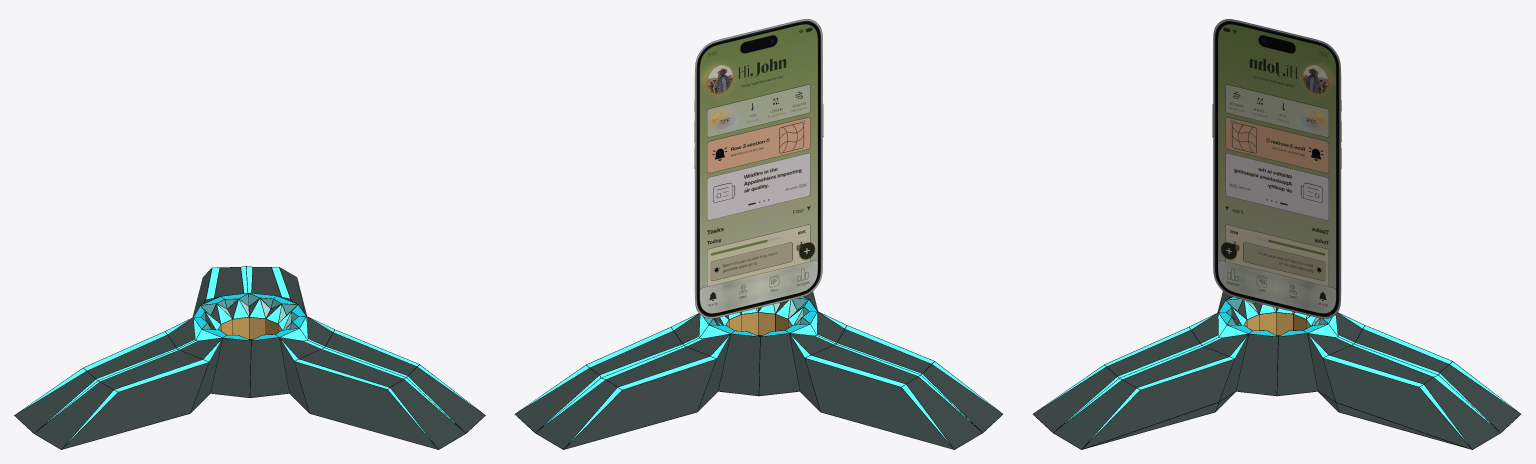
Rendered from project-omnitrix1.glb.
3 views of the same model, side by side, from view 1: azimuth 30°, elevation 25°; view 2: azimuth 150°, elevation 25°; view 3: azimuth 270°, elevation 25° (orthographic). The views are drawn at different scales.
Visible parts, largest first — view 1: jaded blu - chassis, Crown, Wireframe, Emissive blu, Darker blu; view 2: JD Redesign thumbnail, jaded blu - chassis, Crown, Wireframe, Emissive blu; view 3: JD Redesign thumbnail, jaded blu - chassis, Crown, Wireframe, Emissive blu.
Part boxes in pixels (x1,y1,x2,y2): jaded blu - chassis: (15,267,484,449); Crown: (23,266,473,442); Wireframe: (14,266,485,449); Emissive blu: (194,293,305,340); Darker blu: (201,293,298,329); JD Redesign thumbnail: (694,19,823,318); jaded blu - chassis: (515,291,1002,449); Crown: (523,300,995,443); Wireframe: (514,292,1003,449); Emissive blu: (704,297,816,336); JD Redesign thumbnail: (1212,19,1341,318); jaded blu - chassis: (1033,291,1520,449); Crown: (1045,300,1513,443); Wireframe: (1032,292,1521,449); Emissive blu: (1219,297,1331,336).
Size of the model in its own units: 10.49 by 9.42 by 11.98.
Materials: 8 (1 with a texture image).
